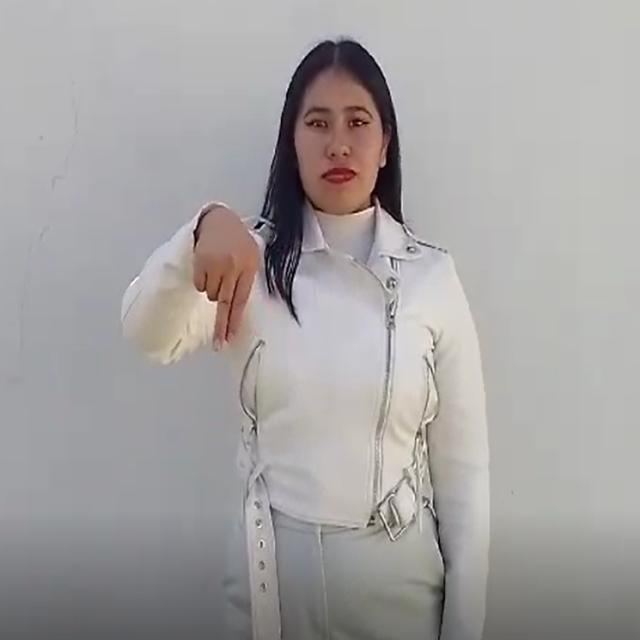N: (154, 188, 280, 374)
